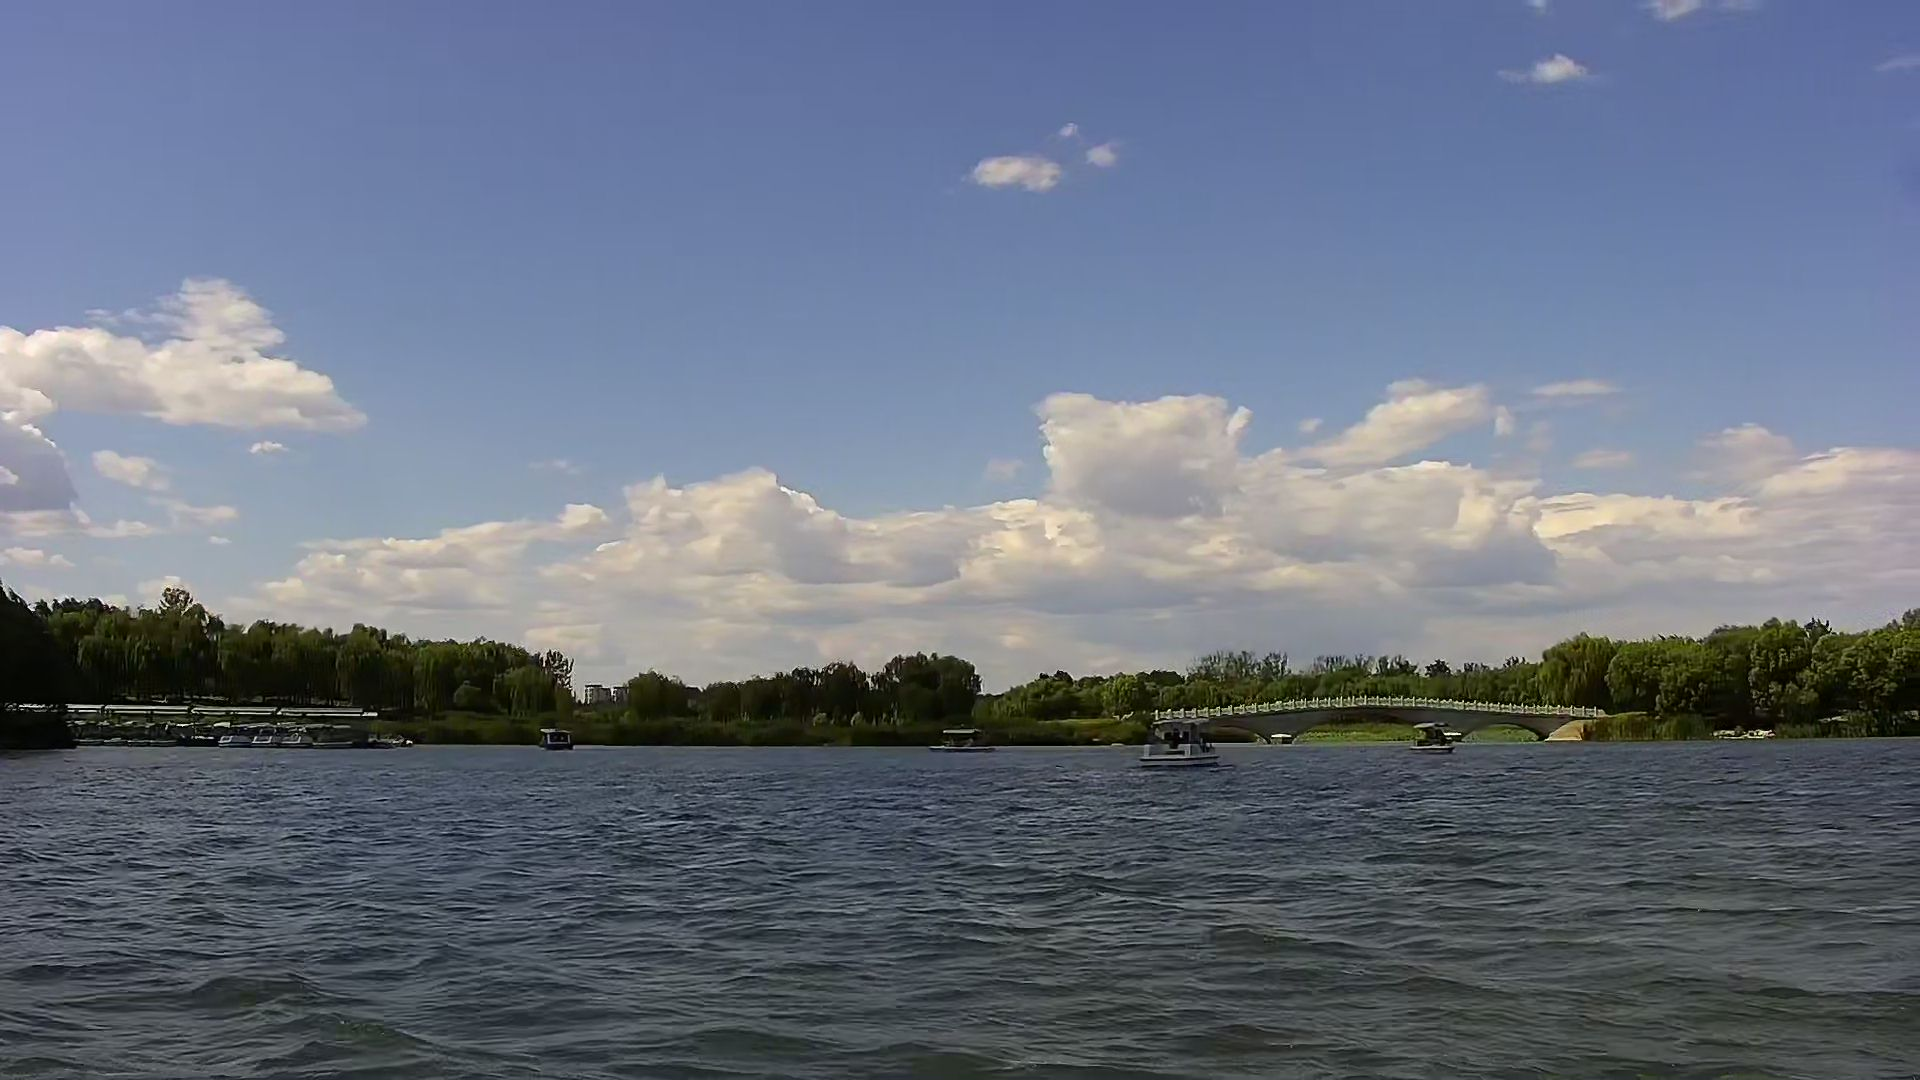boat: (1135, 716, 1224, 767), (1404, 715, 1468, 754), (920, 725, 996, 754), (538, 725, 579, 750)
bridge: (1149, 691, 1606, 744)
harbor: (58, 698, 406, 758)
